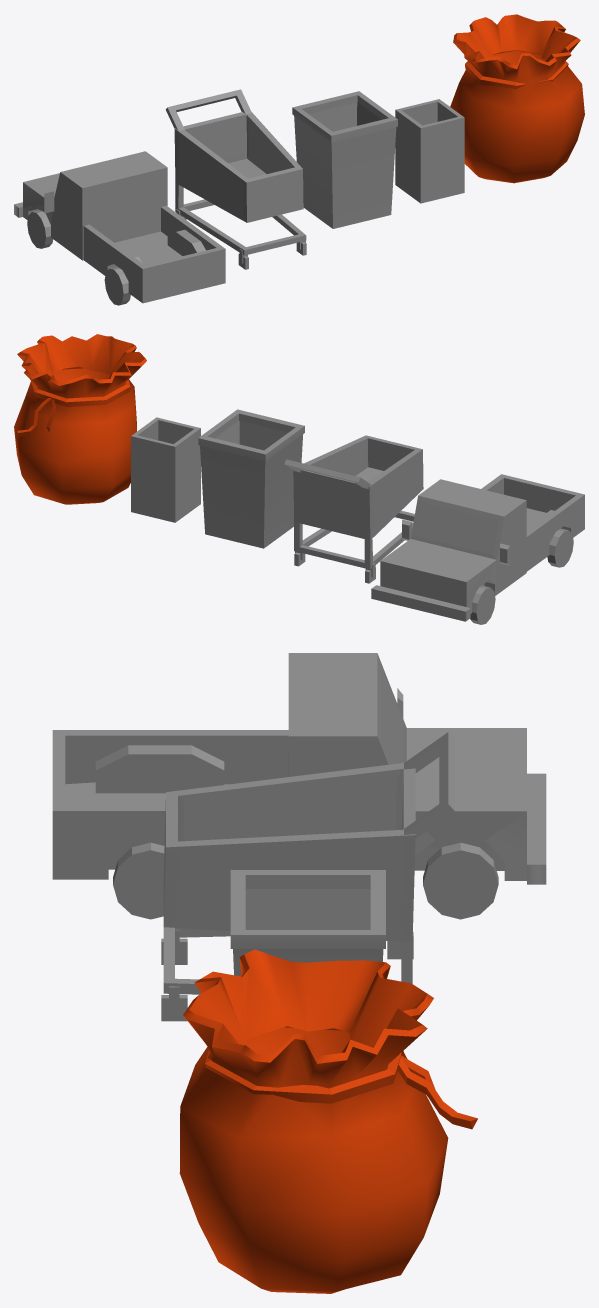
The model's file is bao.FBX.
The picture shows the model from 3 angles, top to bottom: view 1: azimuth 30°, elevation 25°; view 2: azimuth 150°, elevation 25°; view 3: azimuth 270°, elevation 25°; orthographic projection. The views are drawn at different scales.
Visible parts, largest first — view 1: Vehicle, Daizi_01, ShoppingTrolley_02, RubbishBin_004, RubbishBin_001; view 2: Vehicle, Daizi_01, ShoppingTrolley_02, RubbishBin_004, RubbishBin_001; view 3: Daizi_01, Vehicle, ShoppingTrolley_02, RubbishBin_004.
Part boxes in pixels (bbox=[...]): Vehicle: bbox=[14, 151, 225, 305]; Daizi_01: bbox=[450, 14, 584, 183]; ShoppingTrolley_02: bbox=[165, 89, 306, 269]; RubbishBin_004: bbox=[292, 91, 397, 228]; RubbishBin_001: bbox=[395, 99, 464, 203]; Vehicle: bbox=[371, 474, 584, 624]; Daizi_01: bbox=[14, 334, 146, 504]; ShoppingTrolley_02: bbox=[284, 435, 423, 583]; RubbishBin_004: bbox=[198, 409, 304, 548]; RubbishBin_001: bbox=[131, 417, 200, 522]; Daizi_01: bbox=[179, 949, 477, 1293]; Vehicle: bbox=[52, 653, 546, 919]; ShoppingTrolley_02: bbox=[161, 732, 454, 1021]; RubbishBin_004: bbox=[230, 870, 385, 976].
Size of the model in its own units: 237 by 60.03 by 100.
